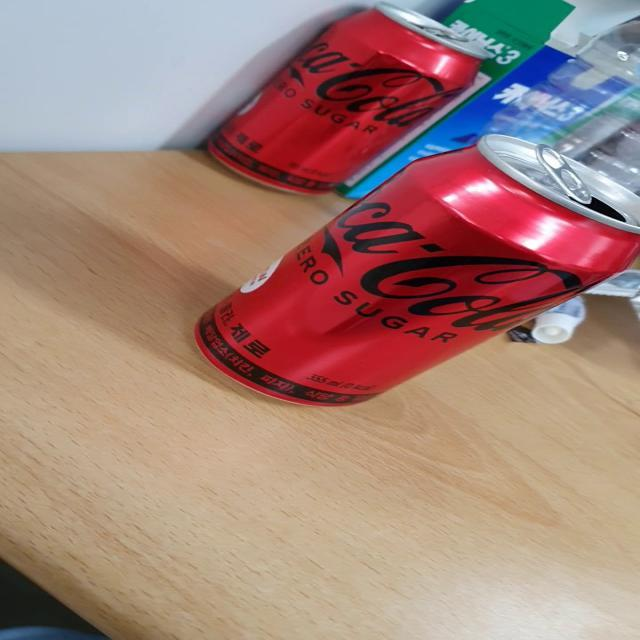coca-cola: (196, 127, 640, 431), (191, 4, 501, 204)
